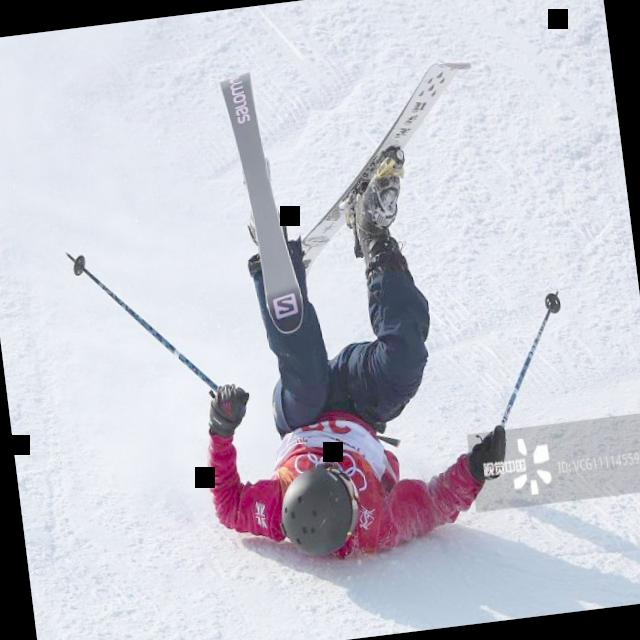Fall-Detected: (136, 87, 520, 602)
